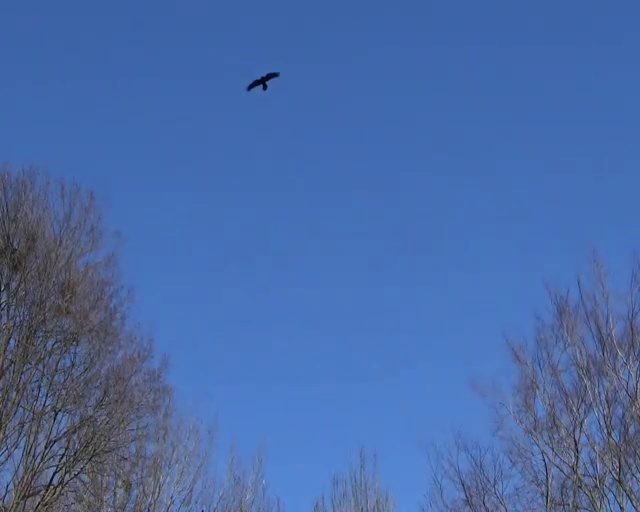BIRD: (247, 72, 280, 91)
